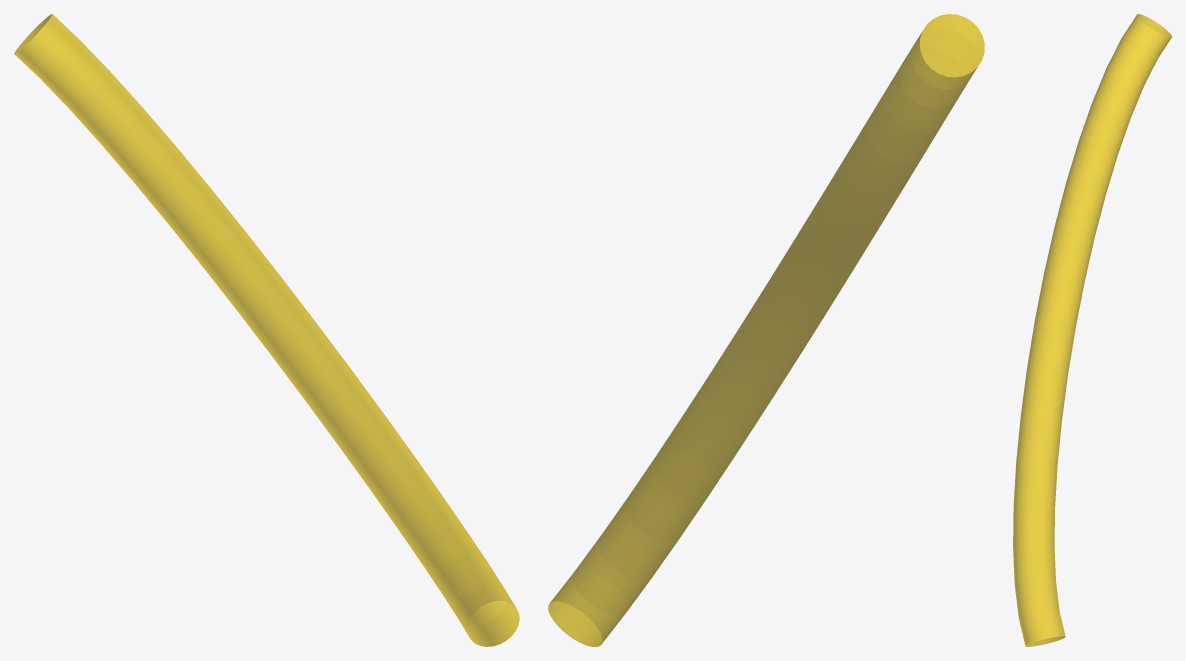
File: Event_84804159_track_89.fbx
3 renders of one model, left to right at view 1: azimuth 30°, elevation 25°; view 2: azimuth 150°, elevation 25°; view 3: azimuth 270°, elevation 25°, orthographic. The views are drawn at different scales.
Parts seen in each view (by area): view 1: Model; view 2: Model; view 3: Model.
Boxes of the visible parts, <box> form: Model: <box>14,14,519,646</box>; Model: <box>548,14,984,646</box>; Model: <box>1013,14,1171,646</box>.
Size of the model in its own units: 0.3565 by 0.5279 by 0.1525.
